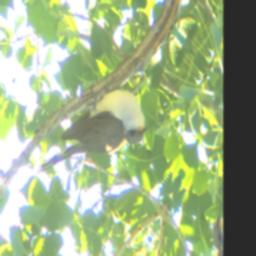Cuckoo: (31, 47, 154, 247)
